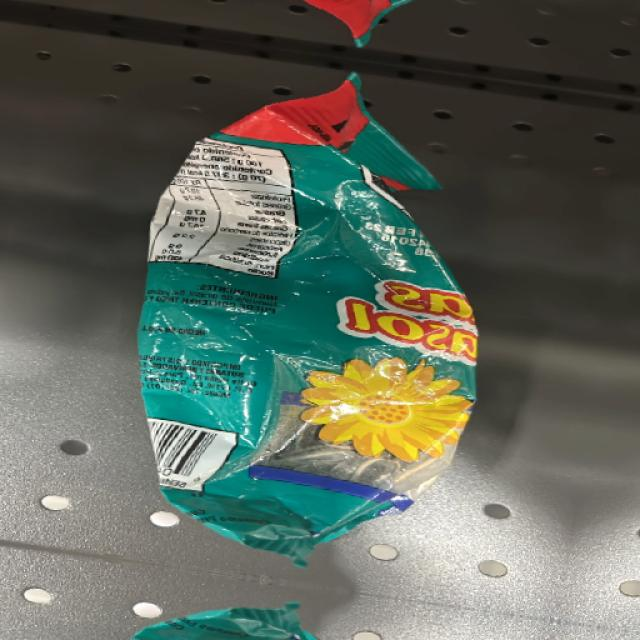semillasGirasol: (169, 136, 443, 518)
